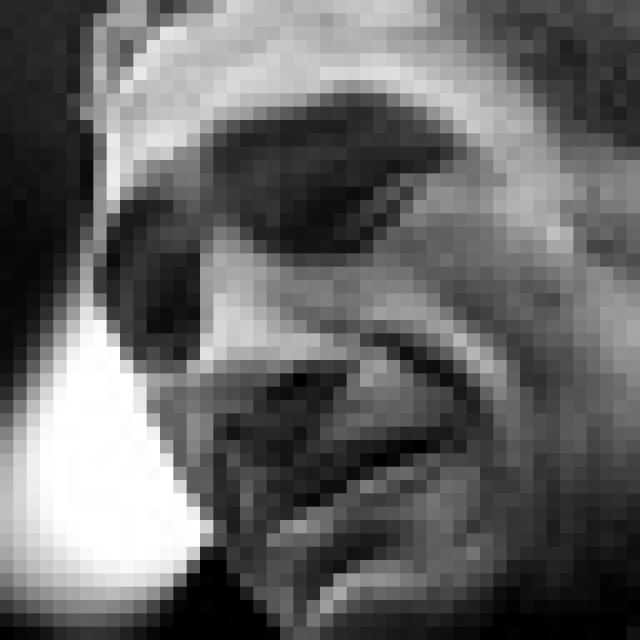sad: (102, 92, 560, 599)
